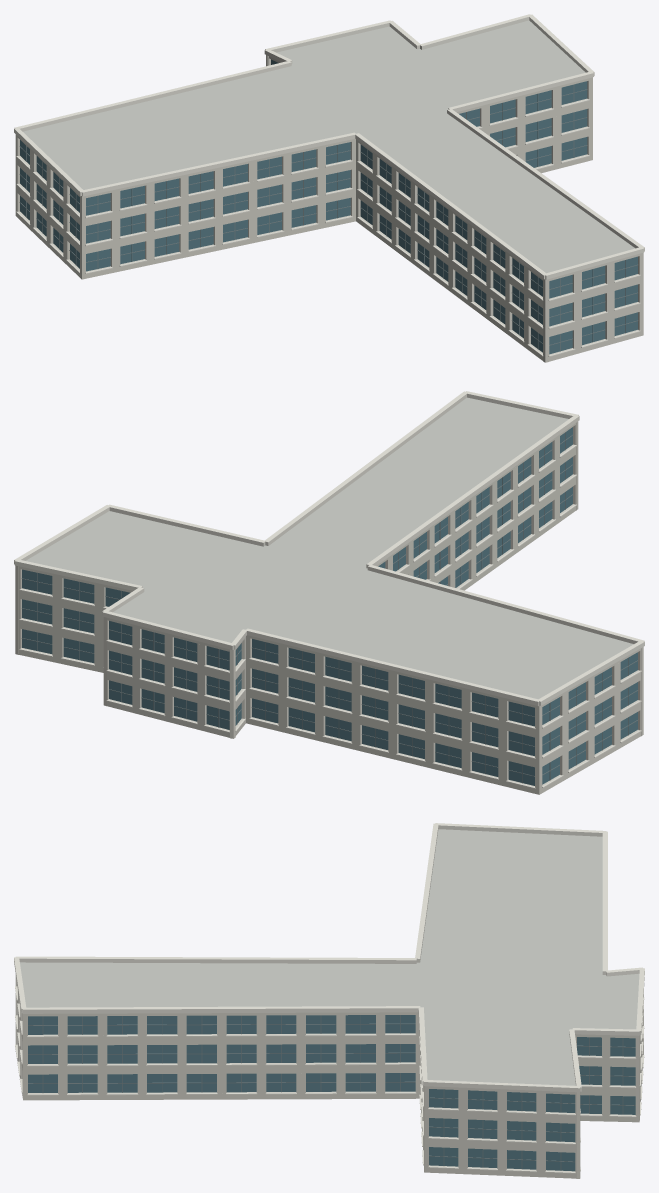
3 views of the same model, one above another, from view 1: azimuth 30°, elevation 25°; view 2: azimuth 150°, elevation 25°; view 3: azimuth 270°, elevation 25° (orthographic). The views are drawn at different scales.
Visible parts, largest first — view 1: roof, wall, glass, trim, metal; view 2: roof, wall, glass, trim, metal; view 3: roof, wall, glass, trim, metal.
Part boxes in pixels (x1,y1,x2,y2): roof: [23, 20, 634, 273]; wall: [15, 55, 643, 362]; glass: [20, 59, 637, 354]; trim: [14, 14, 644, 356]; metal: [19, 84, 638, 351]; roof: [26, 397, 633, 699]; wall: [15, 421, 643, 794]; glass: [22, 427, 637, 785]; trim: [14, 391, 644, 788]; metal: [21, 432, 638, 783]; roof: [20, 829, 639, 1085]; wall: [15, 974, 643, 1178]; glass: [28, 1015, 635, 1171]; trim: [14, 823, 644, 1173]; metal: [28, 1015, 635, 1170].
Bounding box in the file's own units: 60.64 × 9.74 × 60.98.
